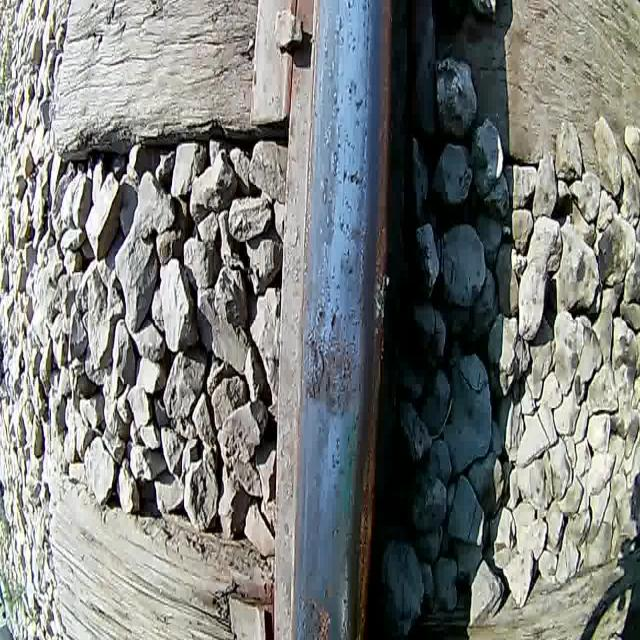Cracks: (310, 344, 327, 403), (328, 305, 340, 343)
Spallings: (304, 306, 354, 422), (308, 585, 334, 640)
Squats: (303, 303, 362, 432), (297, 569, 337, 640), (337, 211, 369, 251), (340, 158, 366, 194), (346, 76, 364, 115)
